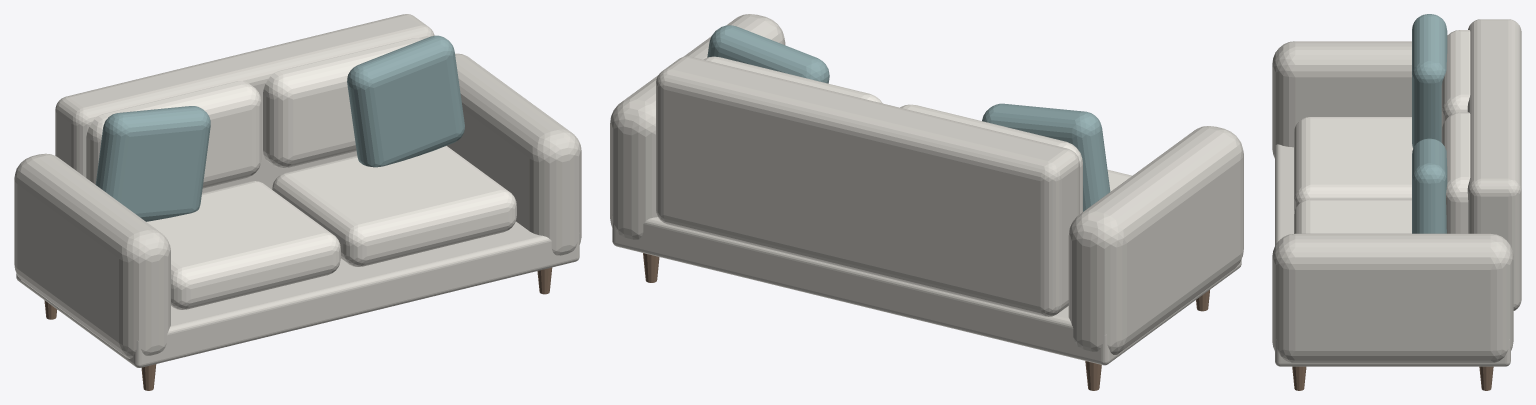
The model's file is sofa_2seat.glb.
3 views of the same model, side by side, from view 1: azimuth 30°, elevation 25°; view 2: azimuth 150°, elevation 25°; view 3: azimuth 270°, elevation 25° (orthographic). The views are drawn at different scales.
Parts seen in each view (by area): view 1: sofa_2seat_0, sofa_2seat_2, sofa_2seat_3, sofa_2seat_1; view 2: sofa_2seat_0, sofa_2seat_3, sofa_2seat_2, sofa_2seat_1; view 3: sofa_2seat_0, sofa_2seat_2, sofa_2seat_3, sofa_2seat_1.
Part boxes in pixels (<box>): sofa_2seat_0: <box>14,14,581,367</box>; sofa_2seat_2: <box>86,38,516,309</box>; sofa_2seat_3: <box>95,35,464,221</box>; sofa_2seat_1: <box>44,267,552,390</box>; sofa_2seat_0: <box>610,14,1243,365</box>; sofa_2seat_3: <box>707,25,1110,211</box>; sofa_2seat_2: <box>703,56,1131,213</box>; sofa_2seat_1: <box>643,253,1209,390</box>; sofa_2seat_0: <box>1272,19,1521,366</box>; sofa_2seat_2: <box>1294,30,1470,233</box>; sofa_2seat_3: <box>1412,14,1447,233</box>; sofa_2seat_1: <box>1292,366,1493,390</box>.
Size of the model in its own units: 1.88 by 0.8388 by 0.9199.
